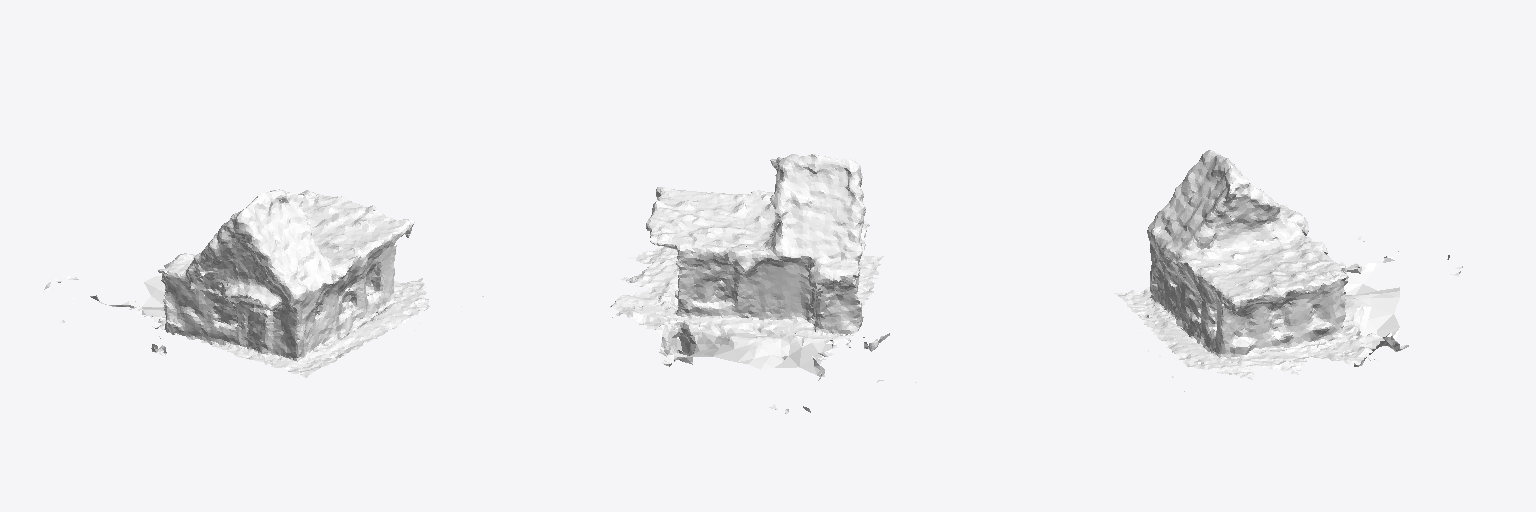
File: realHouse.obj
3 renders of one model, left to right at view 1: azimuth 30°, elevation 25°; view 2: azimuth 150°, elevation 25°; view 3: azimuth 270°, elevation 25°, orthographic.
Size of the model in its own units: 0.5818 by 0.2715 by 0.5147.